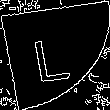L_N: (33, 27, 77, 83)
